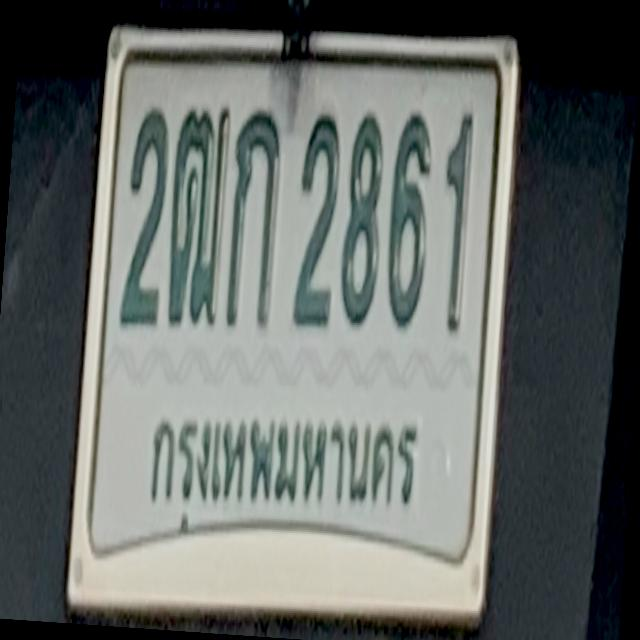license_plate: (58, 2, 540, 640)
